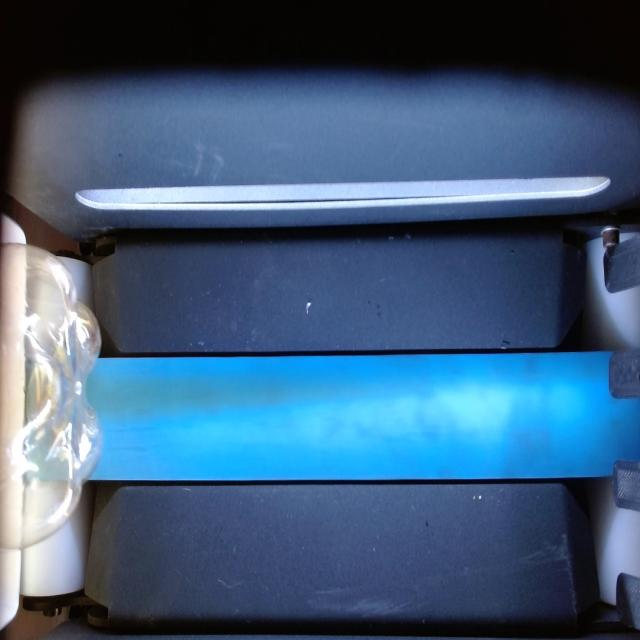bottom: (0, 244, 101, 549)
